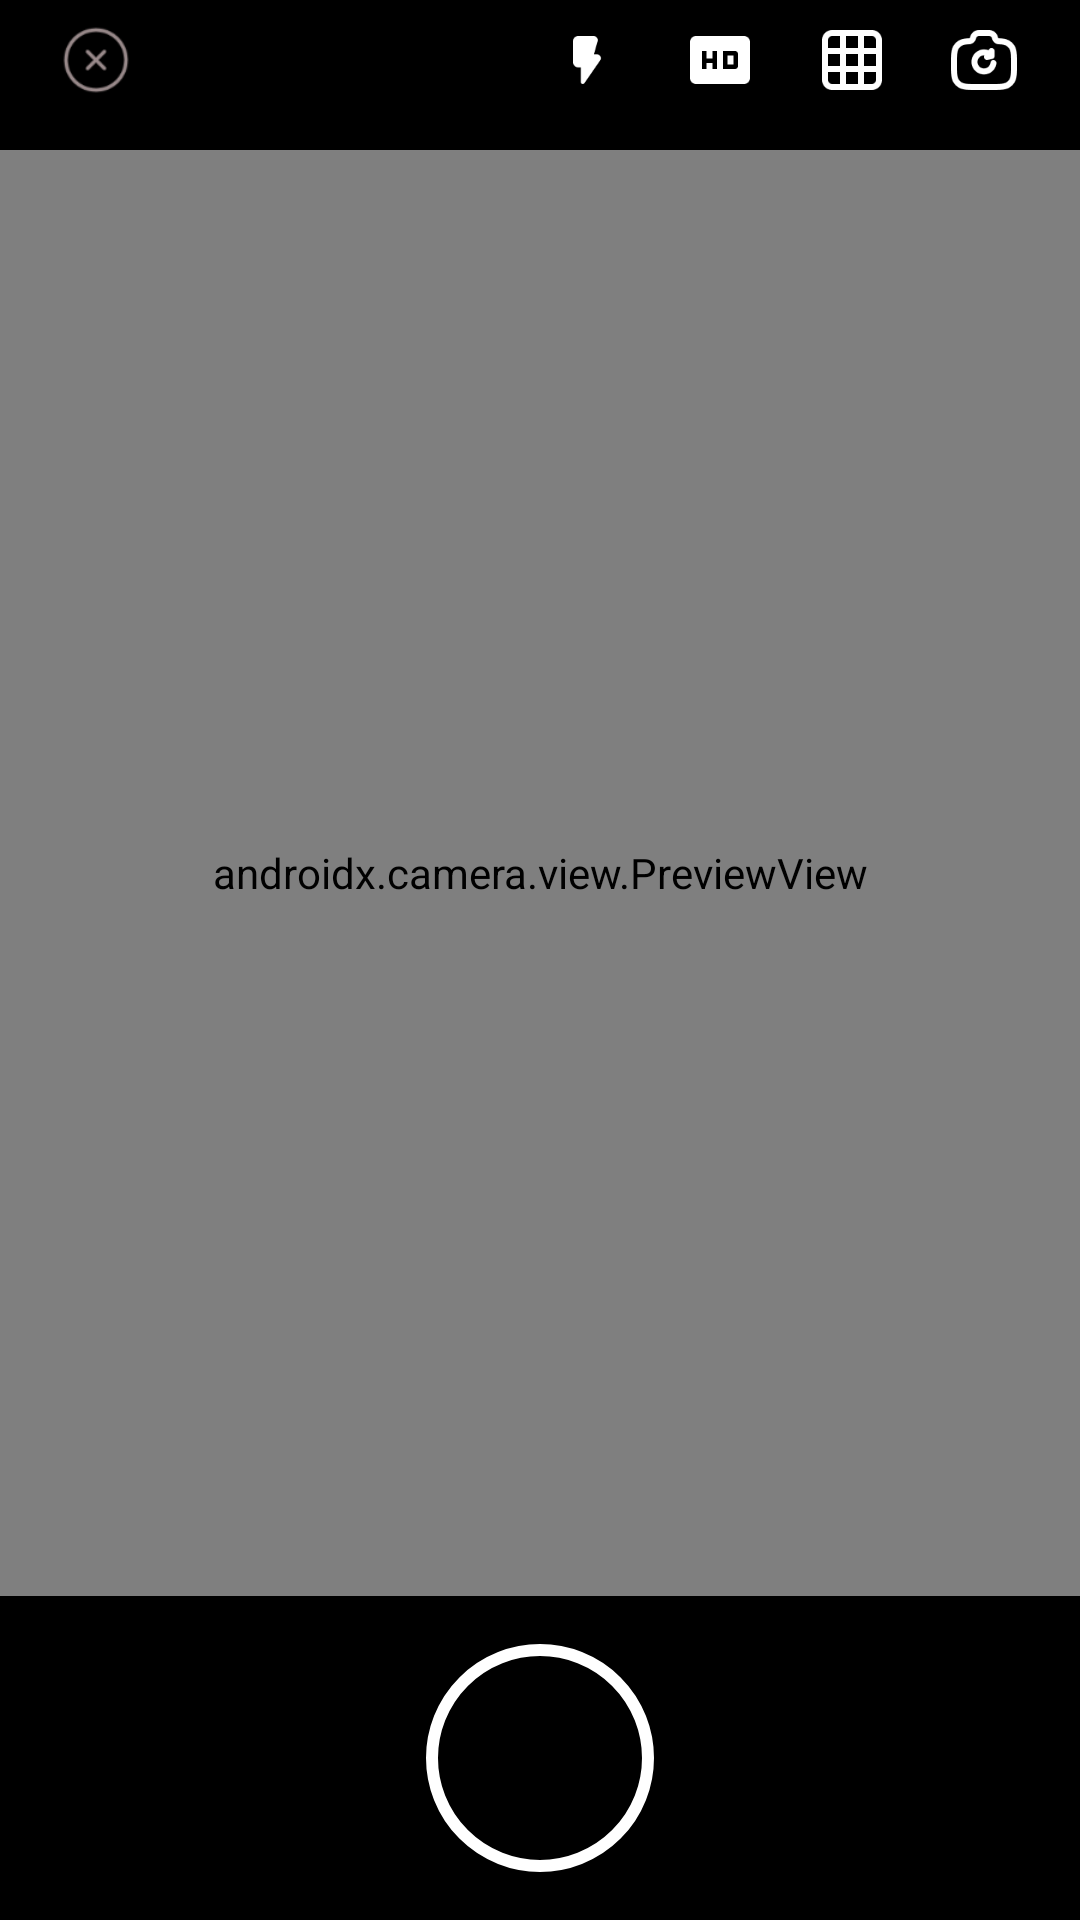

Locate icon controls on the screen. Image size 1080x1920, boxes as bbox=(x1, y1, x2, y2).
Close: bbox=(63, 27, 129, 93)
Flash: bbox=(573, 36, 601, 84)
Grid: bbox=(822, 30, 882, 90)
Quality: bbox=(690, 36, 750, 84)
Switch camera: bbox=(951, 30, 1017, 90)
